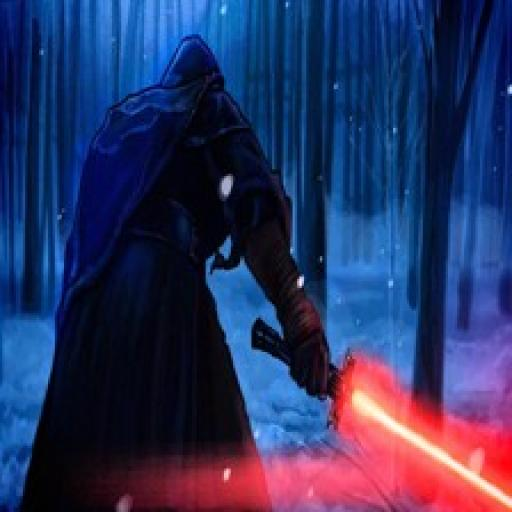human: (12, 24, 334, 512)
sith saber: (246, 315, 512, 512)
